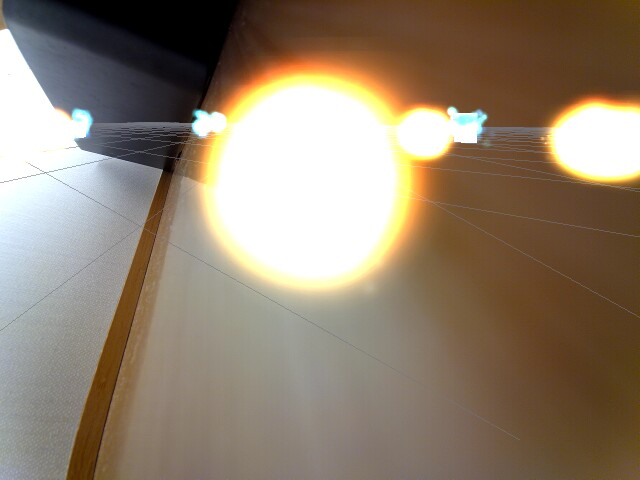firebig: (219, 64, 403, 300)
